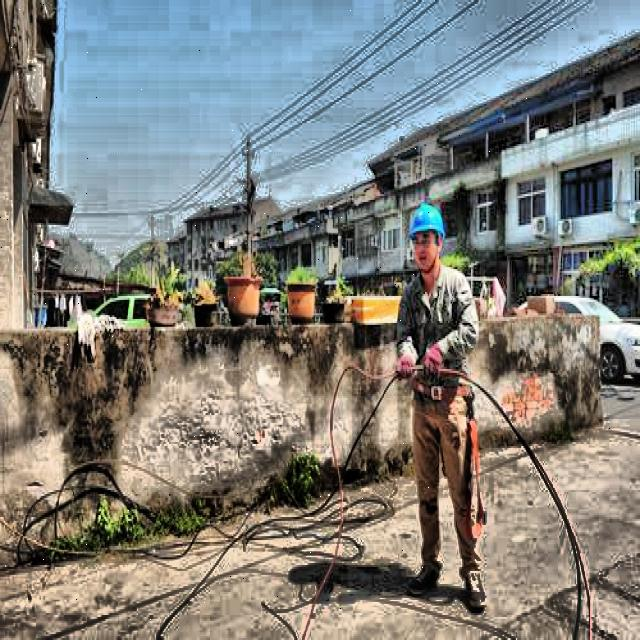helmet: (404, 196, 448, 276)
